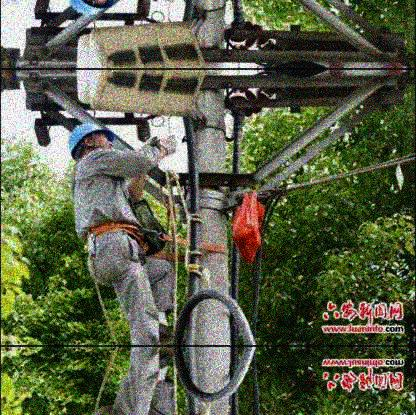helmet: (67, 123, 116, 162)
